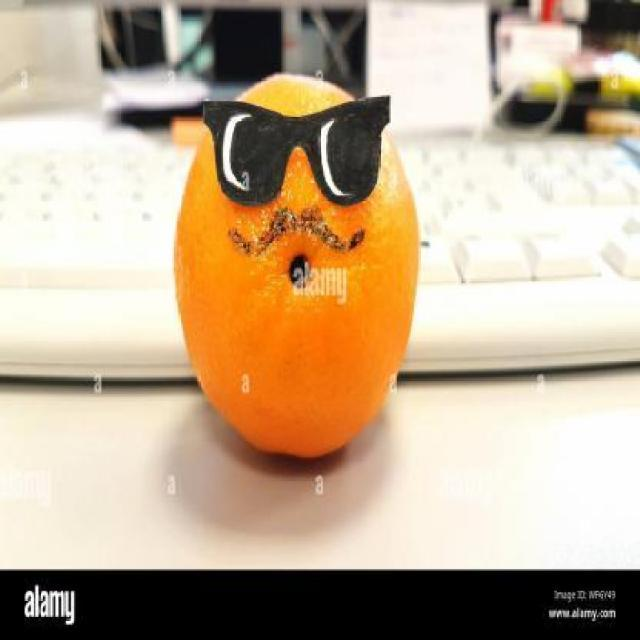Jeruk Sudah Matang: (171, 70, 424, 476)
